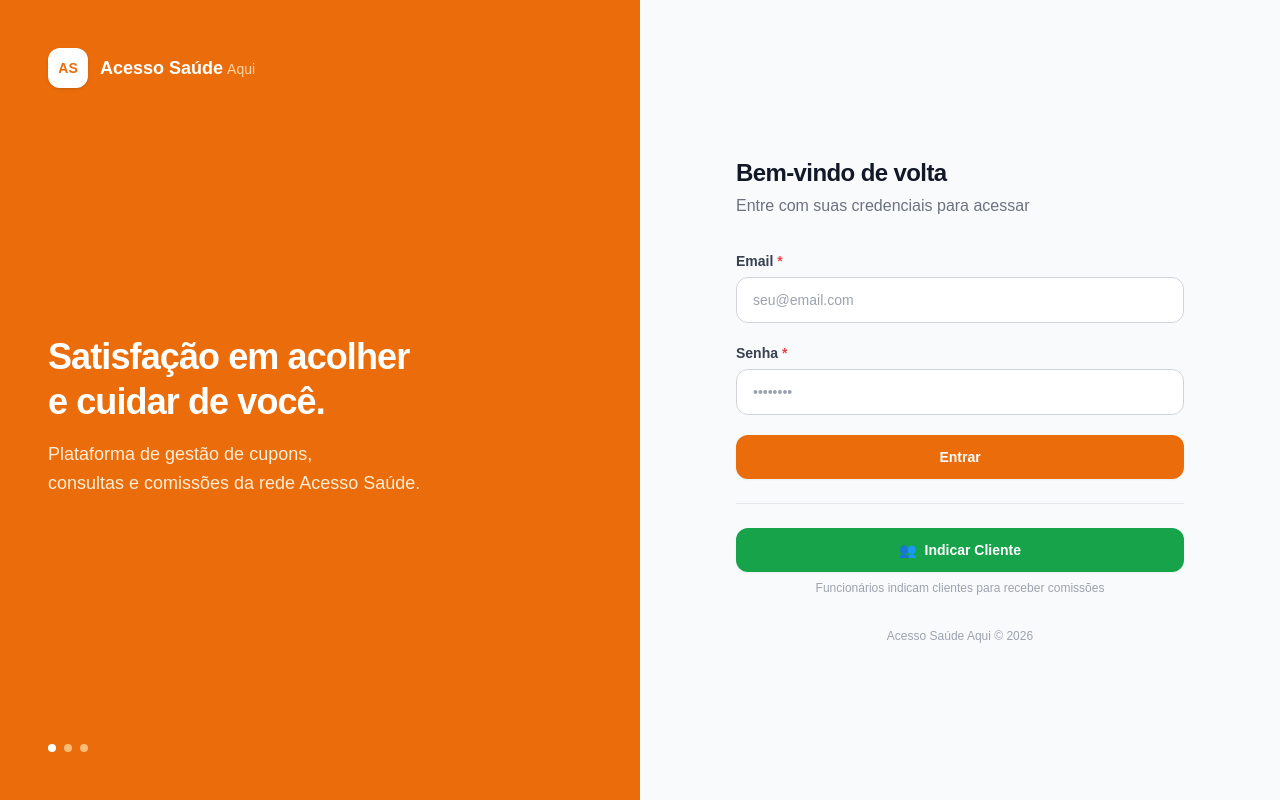
Test: Login › deve rejeitar credenciais inválidas
The width and height of the screenshot is (1280, 800).
Type "wrong@test.com" into the field with placeholder "seu@email.com" at {"x": 960, "y": 300}, box [736,277,1184,323]
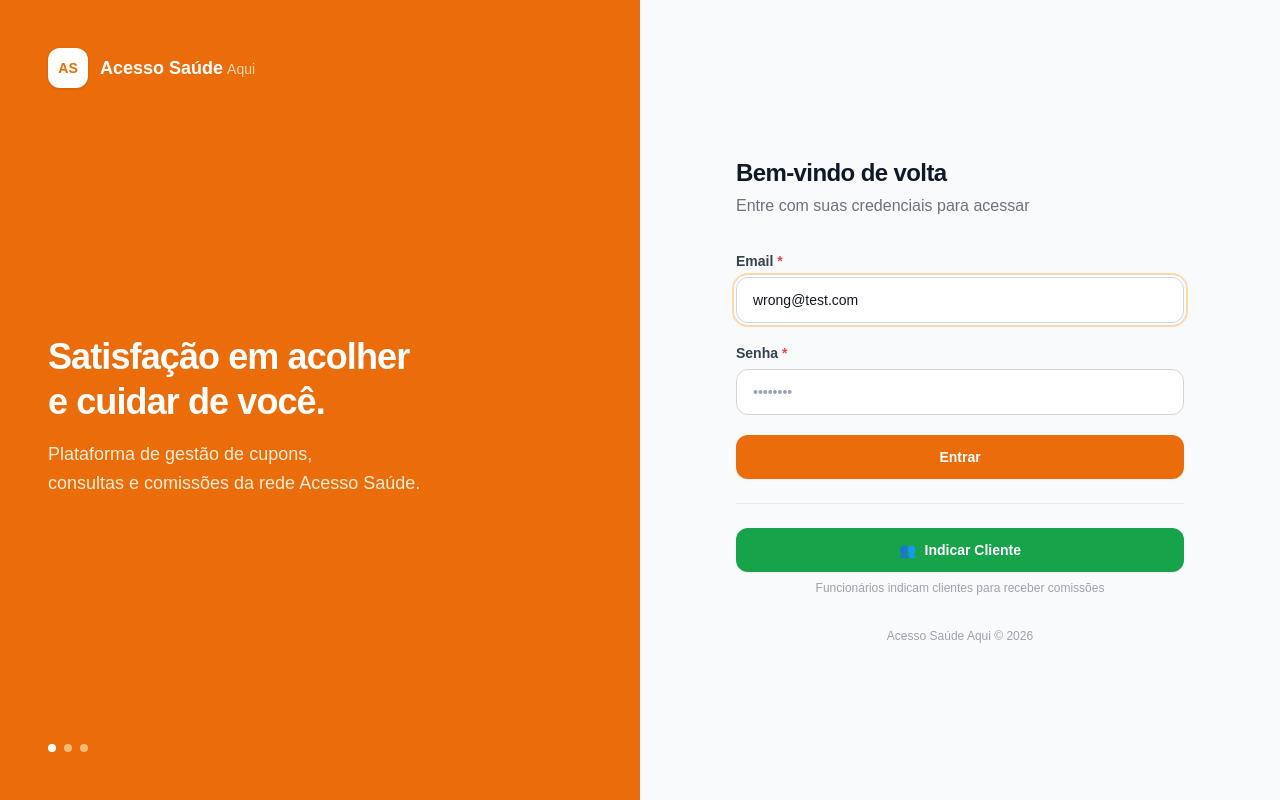
Type "wrongpass" into the password field with placeholder "••••••••" at {"x": 960, "y": 392}, box [736,369,1184,415]
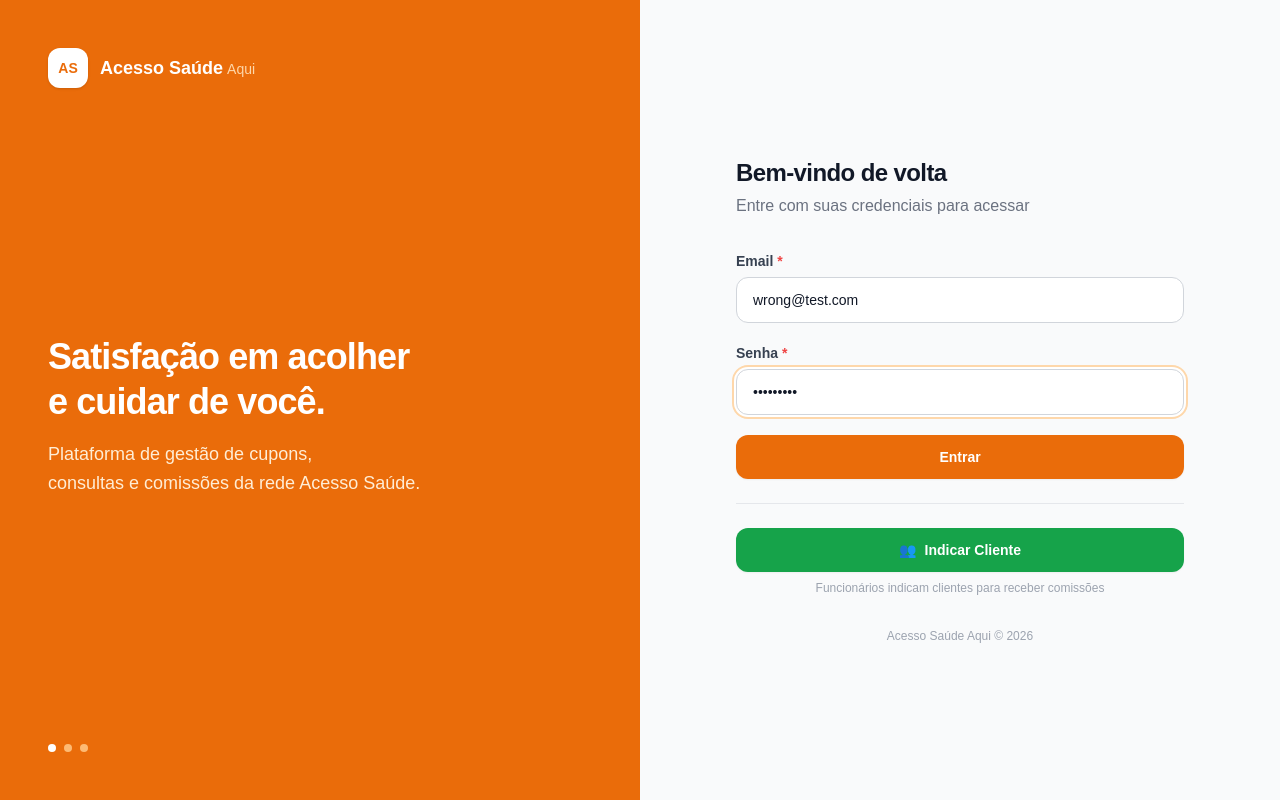
Click the submit button at {"x": 960, "y": 457}, box [736,435,1184,479]
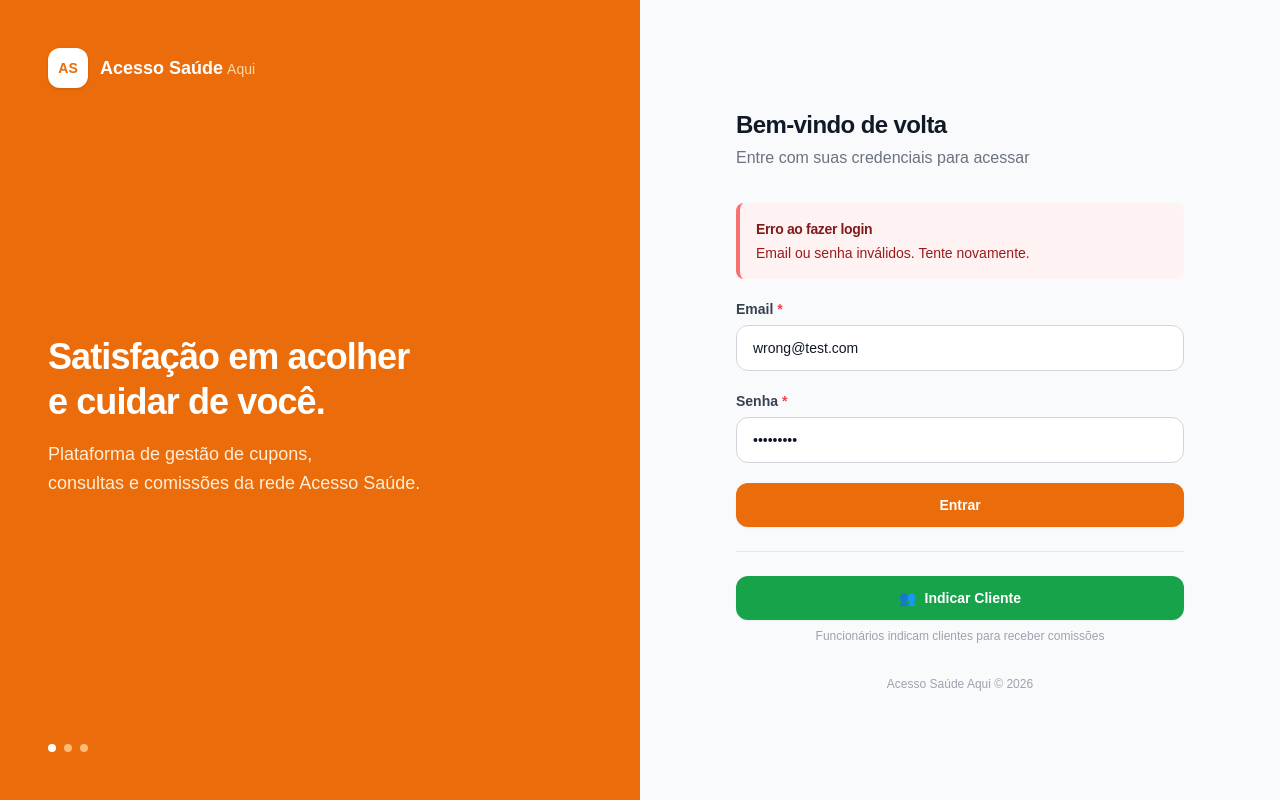
Expected: the text "Email ou senha inválidos" is shown, [756,245,1030,261]
